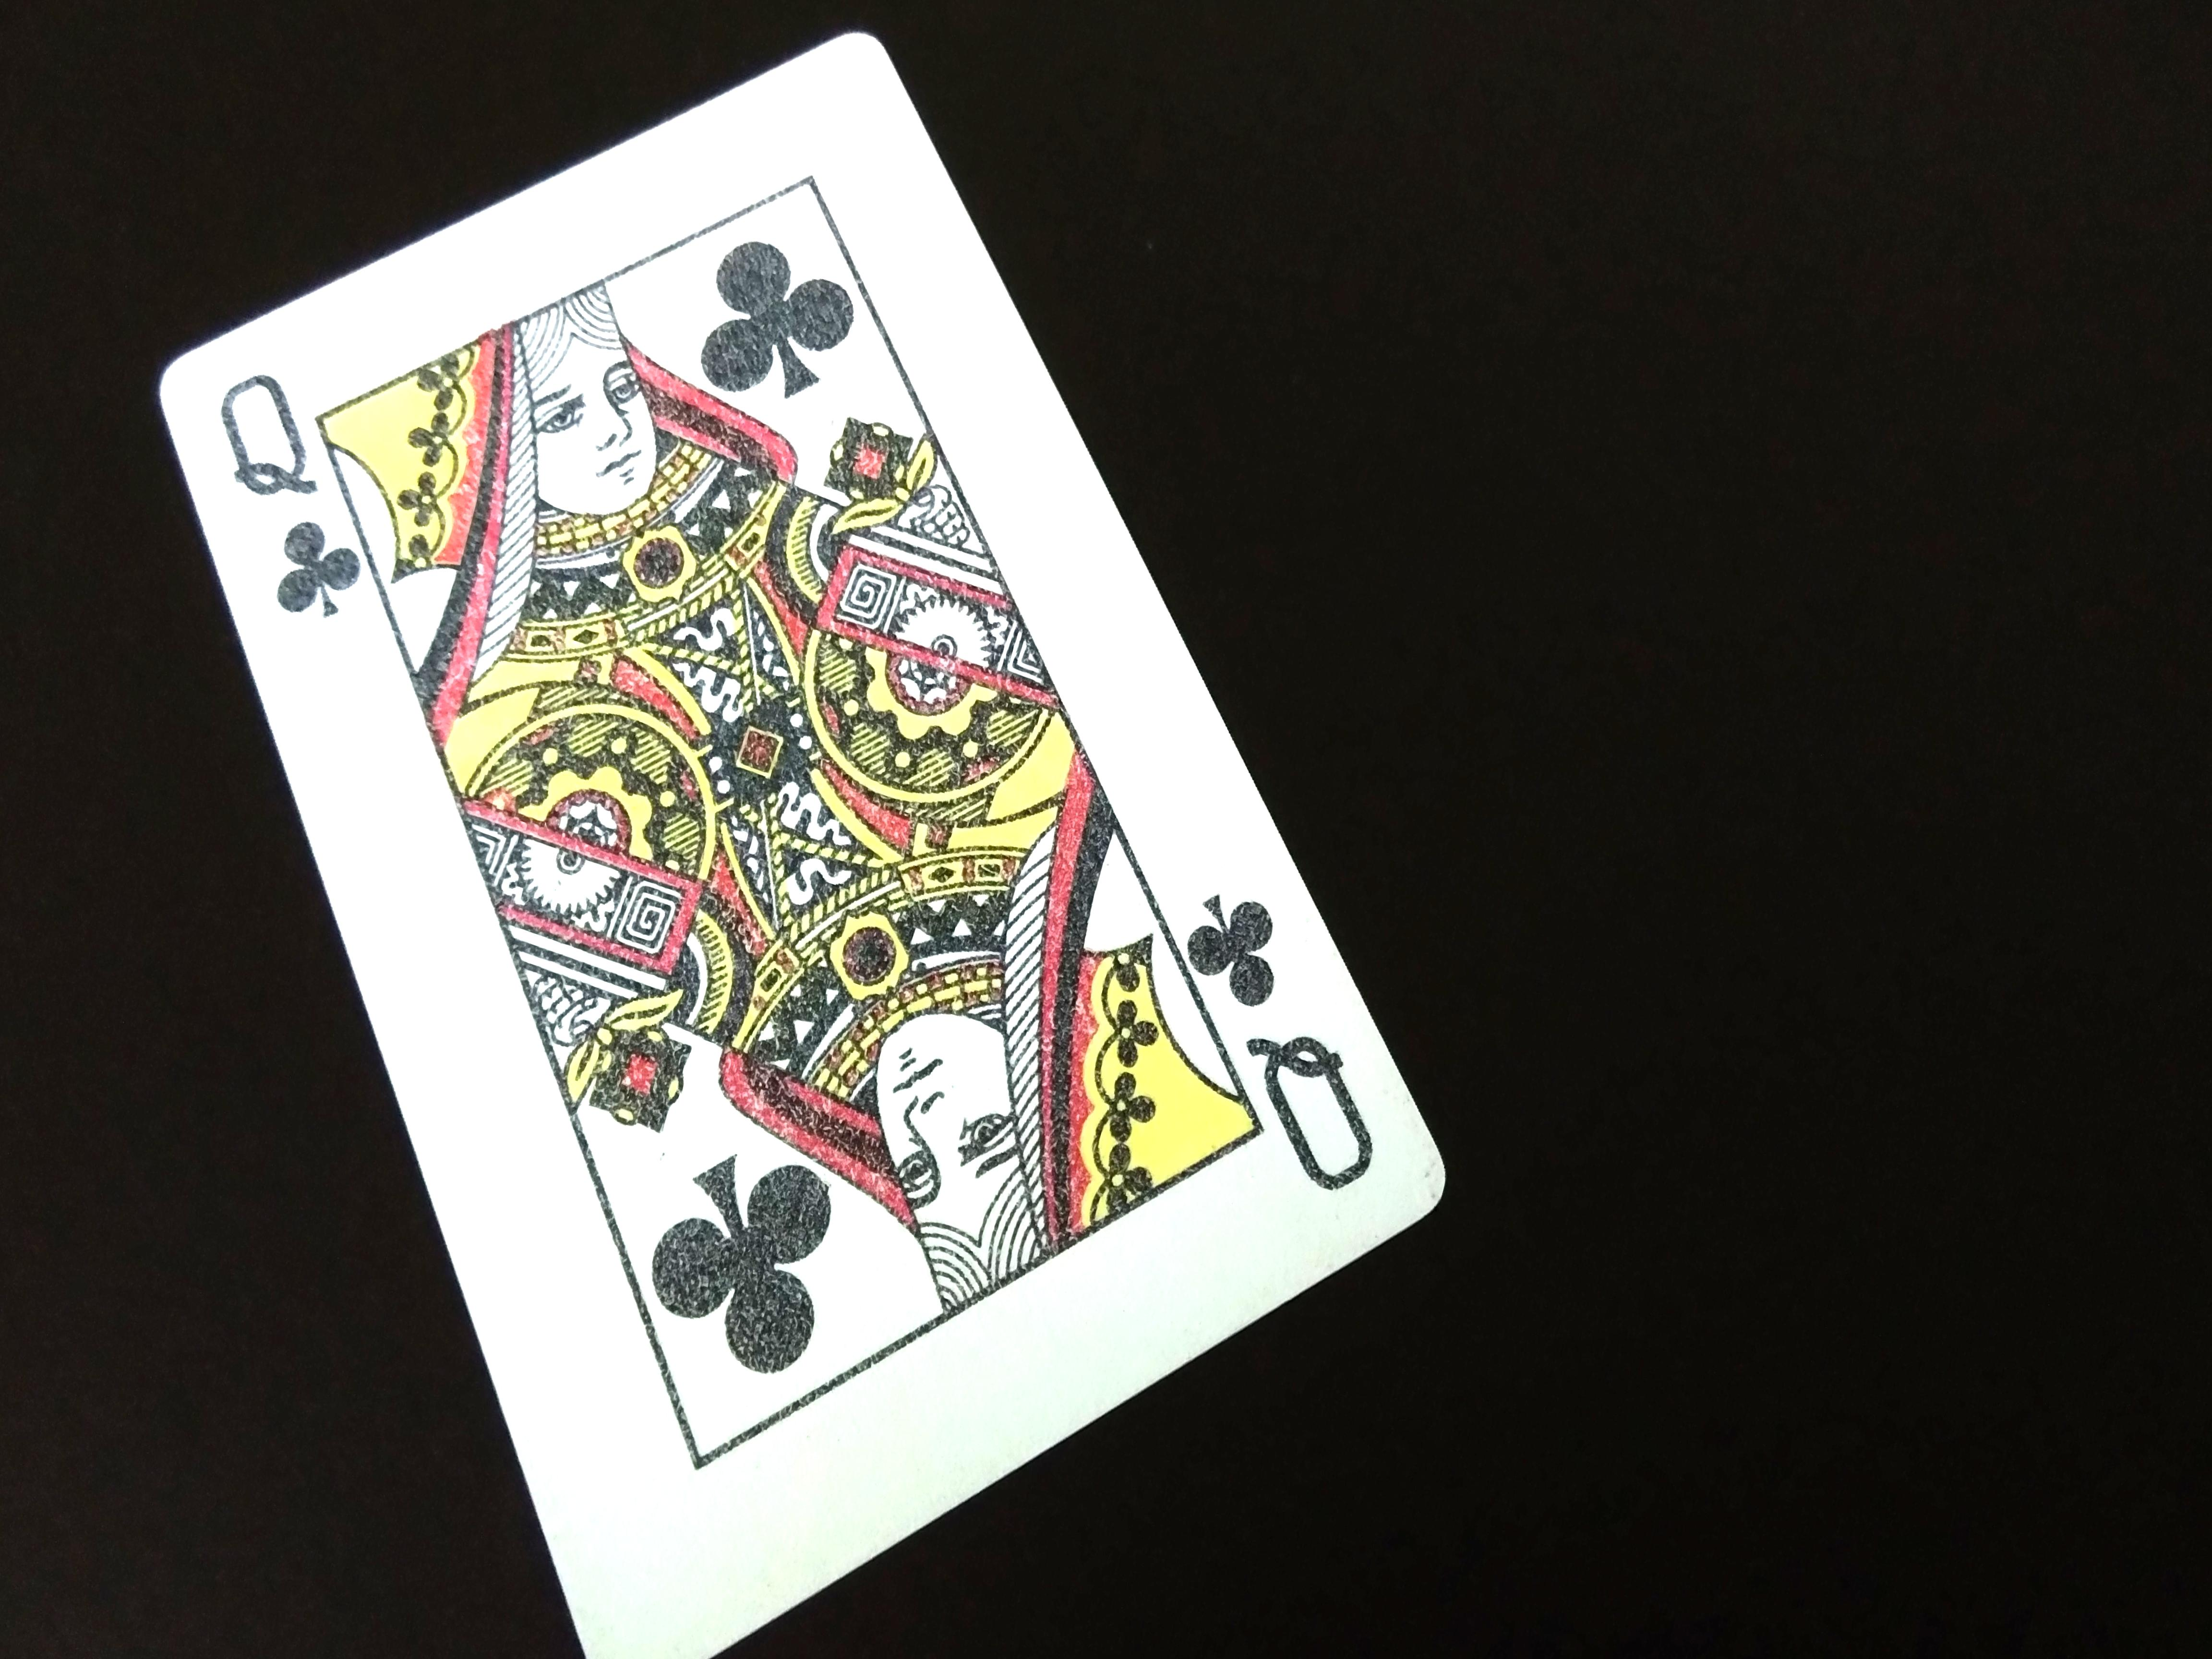QC: (207, 338, 362, 624)
